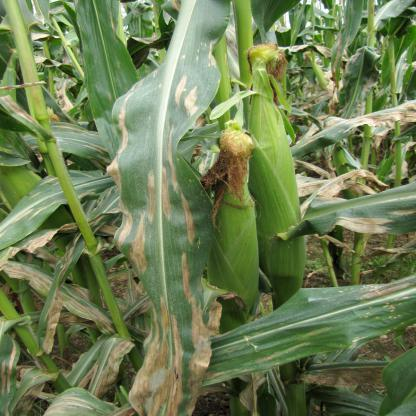Corn leaf blight: (108, 4, 220, 416)
